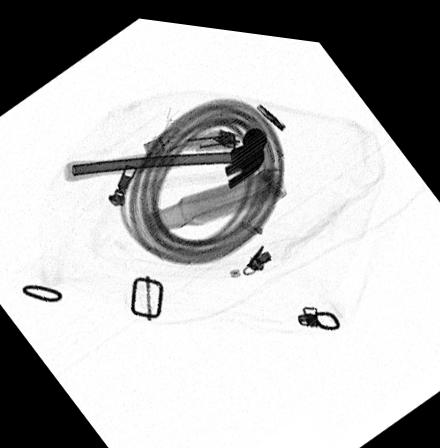Hammer: (64, 120, 268, 184)
